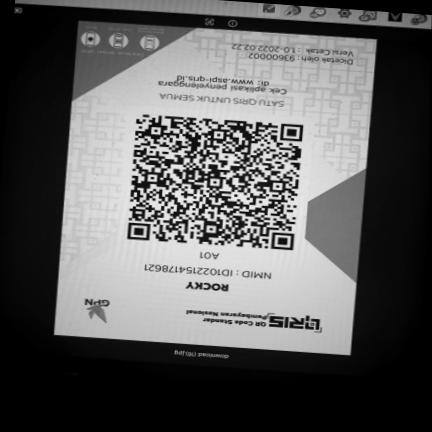Cara Pakai QRIS: (76, 20, 175, 61)
Cek Aplikasi Penyelenggara: (152, 70, 289, 97)
Dicetak Oleh: (245, 51, 355, 66)
Logo GPN: (75, 293, 121, 326)
Logo dan deskripsi QRIS: (179, 303, 333, 338)
Nama Merchant: (176, 279, 236, 294)
National Merchant ID: (135, 260, 275, 281)
QR Code: (118, 108, 310, 253)
Slogan: (154, 89, 288, 110)
Terminal ID: (193, 250, 225, 262)
Versi Cetak: (226, 41, 356, 58)
